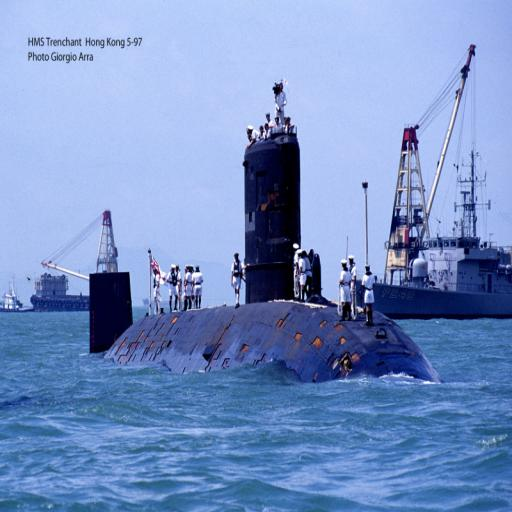submarine: (91, 137, 452, 381)
